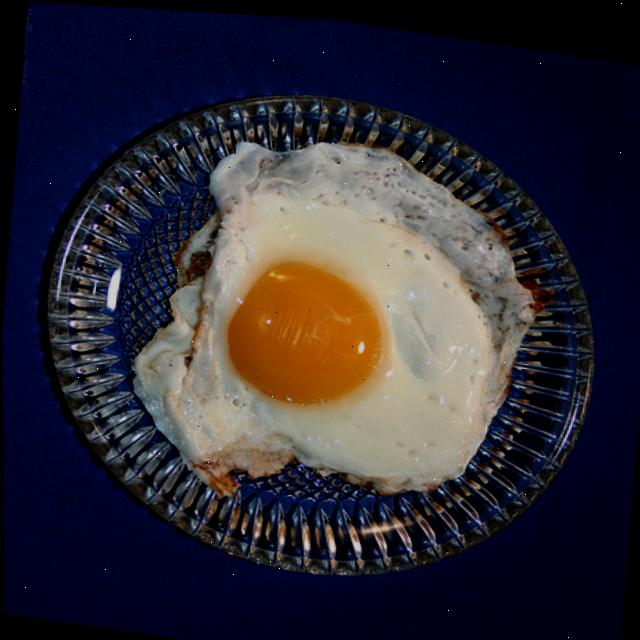鸡蛋料理: (126, 123, 543, 529)
